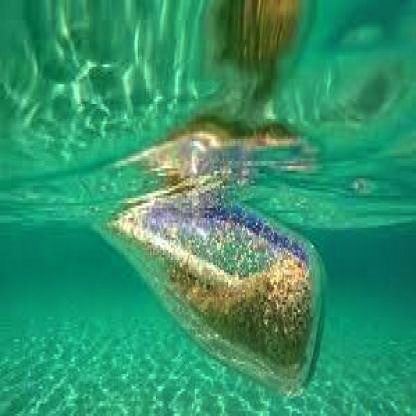gbottle: (93, 191, 330, 396)
